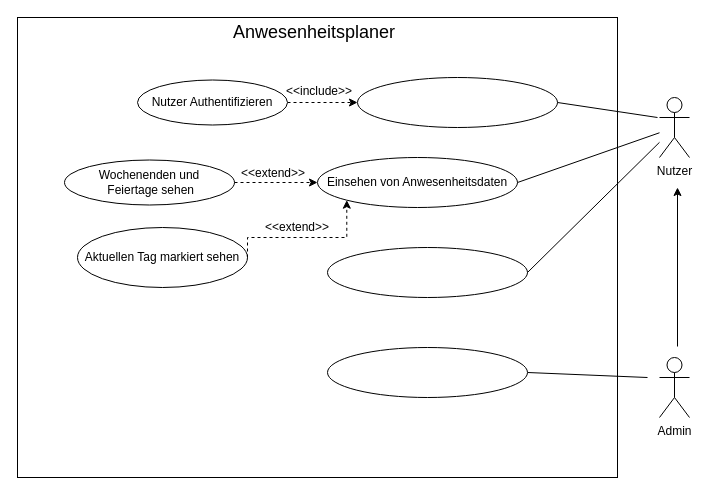
This 709x495 diagram has some shape labels left out. The box of each missing label's shape, as (x1, y1, x2, y2) in pixels:
Login: (356, 76, 558, 128)
Verwalten aller Anwesenheisdaten: (326, 346, 528, 398)
Verwalten von eigenen Anwesenheisdaten: (326, 246, 528, 298)
